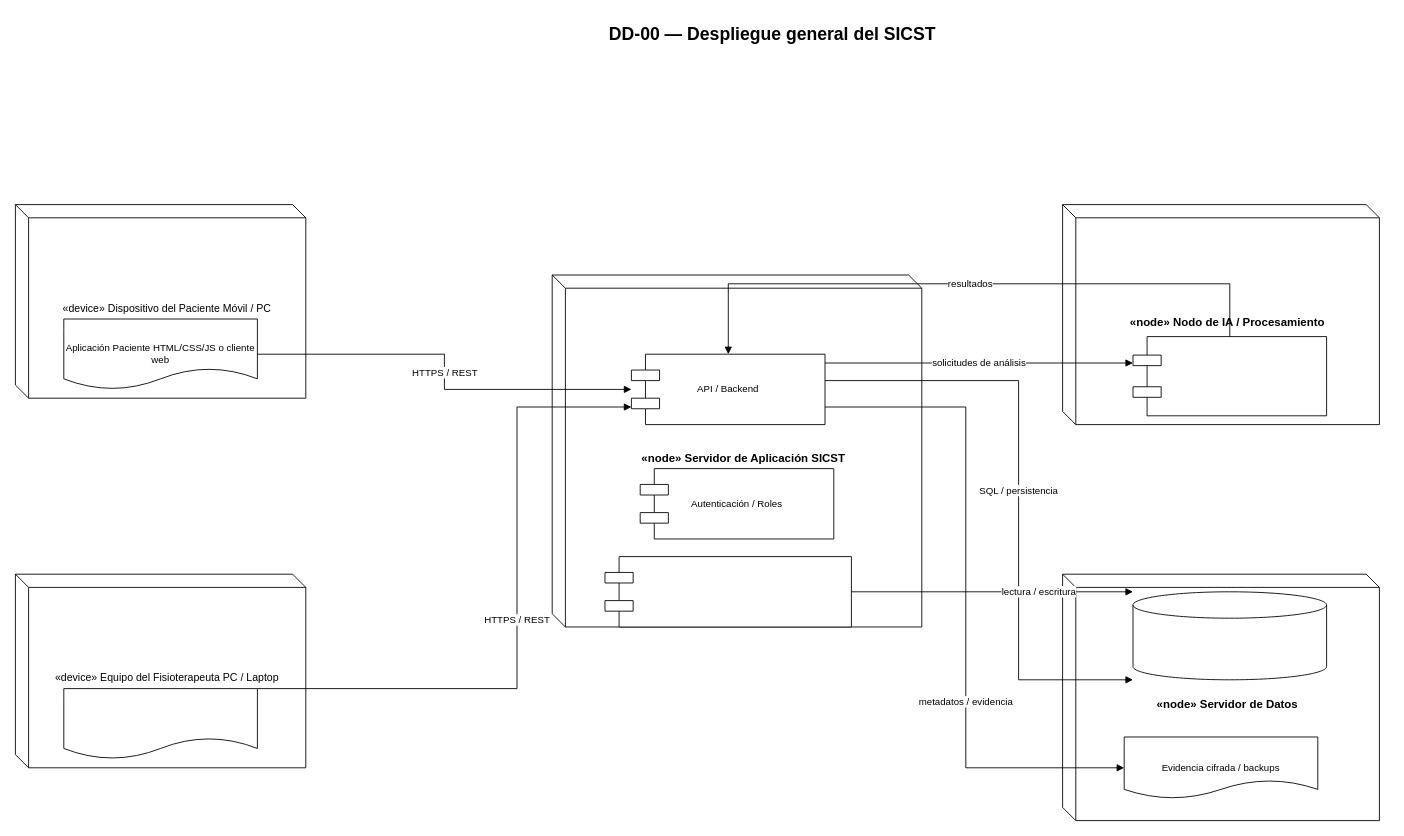
The diagram is 1404 pixels wide and 836 high, and some of its shapes have lost their labels. Here are the shapes that lost their labels. From the top down, the centre of each, then its label:
At point (1229, 376): "Motor IA Análisis de postura".
At point (727, 591): "Seguimiento / Alertas / Reportes".
At point (1229, 635): "Base de datos SICST".
At point (160, 723): "Aplicación Fisioterapeuta HTML/CSS/JS".
